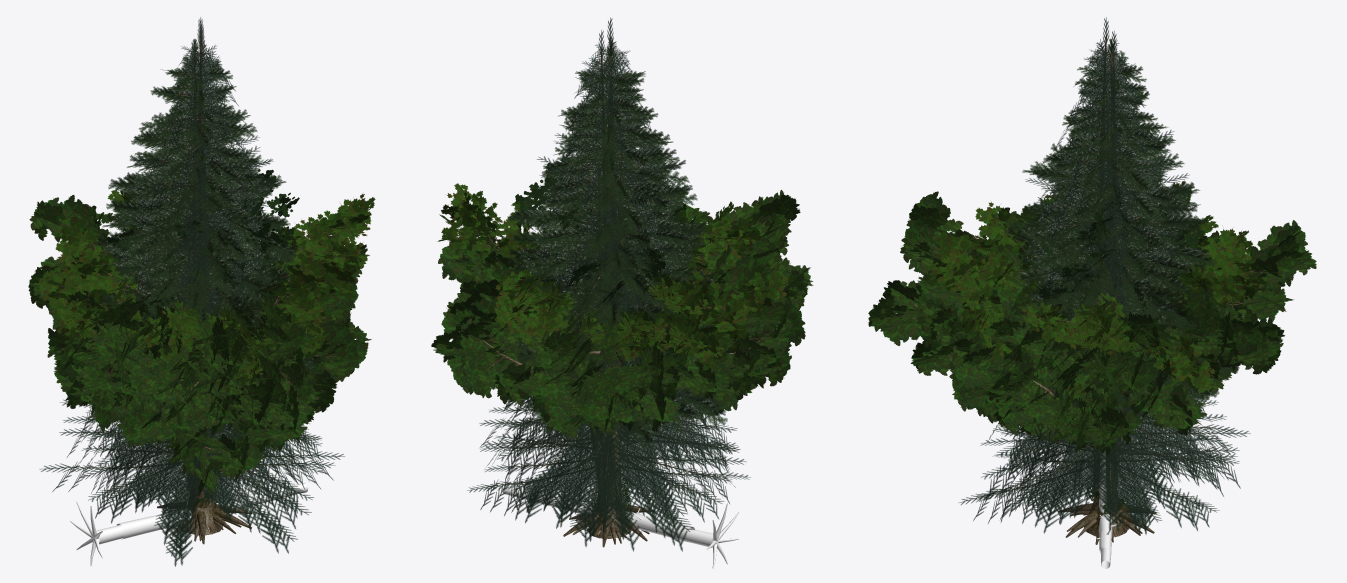
The model's file is vegetation_assets.glb.
The picture shows the model from 3 angles, left to right: view 1: azimuth 30°, elevation 25°; view 2: azimuth 150°, elevation 25°; view 3: azimuth 270°, elevation 25°; orthographic projection.
Parts seen in each view (by area): view 1: pine_02, spruce_01, oak_00, spruce_00, oak_01, maple_00, oak_02, pine_00, maple_01, pine_03, alder_00, log_00 (+3 smaller); view 2: pine_02, spruce_00, oak_00, spruce_01, maple_00, oak_02, pine_00, maple_01, oak_01, pine_03, alder_00, pine_01 (+2 smaller); view 3: oak_00, pine_02, spruce_00, spruce_01, oak_02, maple_00, oak_01, pine_00, maple_01, alder_00, pine_01, pine_03 (+1 smaller).
Part boxes in pixels (x1,y1,x2,y2): pine_02: (89, 39, 319, 536); spruce_01: (79, 17, 344, 544); oak_00: (28, 194, 358, 541); spruce_00: (39, 26, 335, 566); oak_01: (54, 316, 371, 544); maple_00: (60, 190, 375, 532); oak_02: (53, 244, 367, 541); pine_00: (86, 91, 323, 532); maple_01: (38, 239, 354, 529); pine_03: (105, 144, 271, 532); alder_00: (106, 169, 299, 317); log_00: (70, 483, 308, 566); pine_02: (487, 43, 725, 538); spruce_00: (467, 30, 750, 551); oak_00: (450, 190, 813, 543); spruce_01: (480, 17, 746, 551); maple_00: (437, 183, 787, 533); oak_02: (431, 237, 805, 544); pine_00: (507, 111, 727, 536); maple_01: (516, 181, 763, 535); oak_01: (453, 335, 791, 547); pine_03: (561, 161, 694, 535); alder_00: (515, 161, 665, 304); pine_01: (505, 193, 702, 534); oak_00: (900, 191, 1316, 537); pine_02: (1003, 38, 1243, 537); spruce_00: (959, 30, 1250, 533); spruce_01: (975, 17, 1239, 535); oak_02: (868, 231, 1284, 542); maple_00: (936, 180, 1267, 530); oak_01: (910, 300, 1243, 544); pine_00: (1011, 91, 1239, 401); maple_01: (924, 215, 1235, 515); alder_00: (1030, 191, 1204, 291); pine_01: (989, 159, 1226, 430); pine_03: (993, 153, 1179, 419).
Size of the model in its own units: 16.9 by 23.6 by 19.73.
18 materials, 16 textured.
